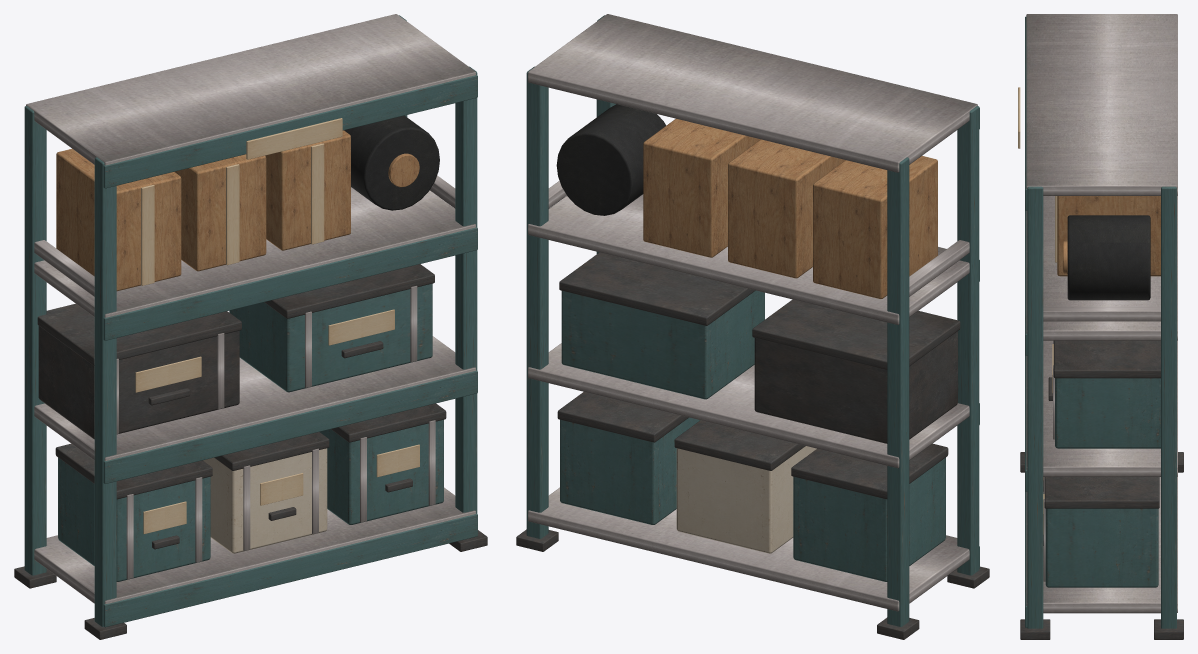
Rendered from SM_FacilityRooms_SupplyRack.fbx.
The picture shows the model from 3 angles, left to right: view 1: azimuth 30°, elevation 25°; view 2: azimuth 150°, elevation 25°; view 3: azimuth 270°, elevation 25°; orthographic projection. The views are drawn at different scales.
Parts seen in each view (by area): view 1: SM_FacilityRooms_SupplyRack; view 2: SM_FacilityRooms_SupplyRack; view 3: SM_FacilityRooms_SupplyRack.
Boxes of the visible parts, box(x1,y1,x2,y2) form: SM_FacilityRooms_SupplyRack: box(14, 14, 487, 639); SM_FacilityRooms_SupplyRack: box(516, 14, 989, 639); SM_FacilityRooms_SupplyRack: box(1018, 14, 1183, 639).
Size of what is drawn, in the model's own units: 180 by 70 by 210.
